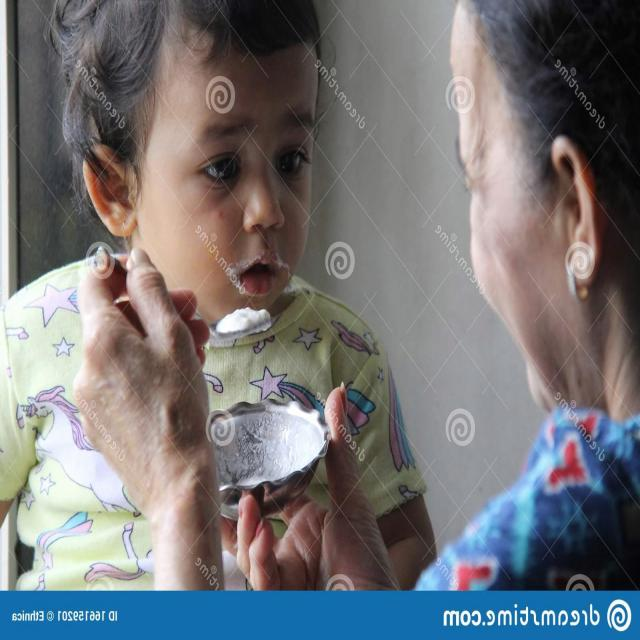child: (0, 19, 419, 594)
